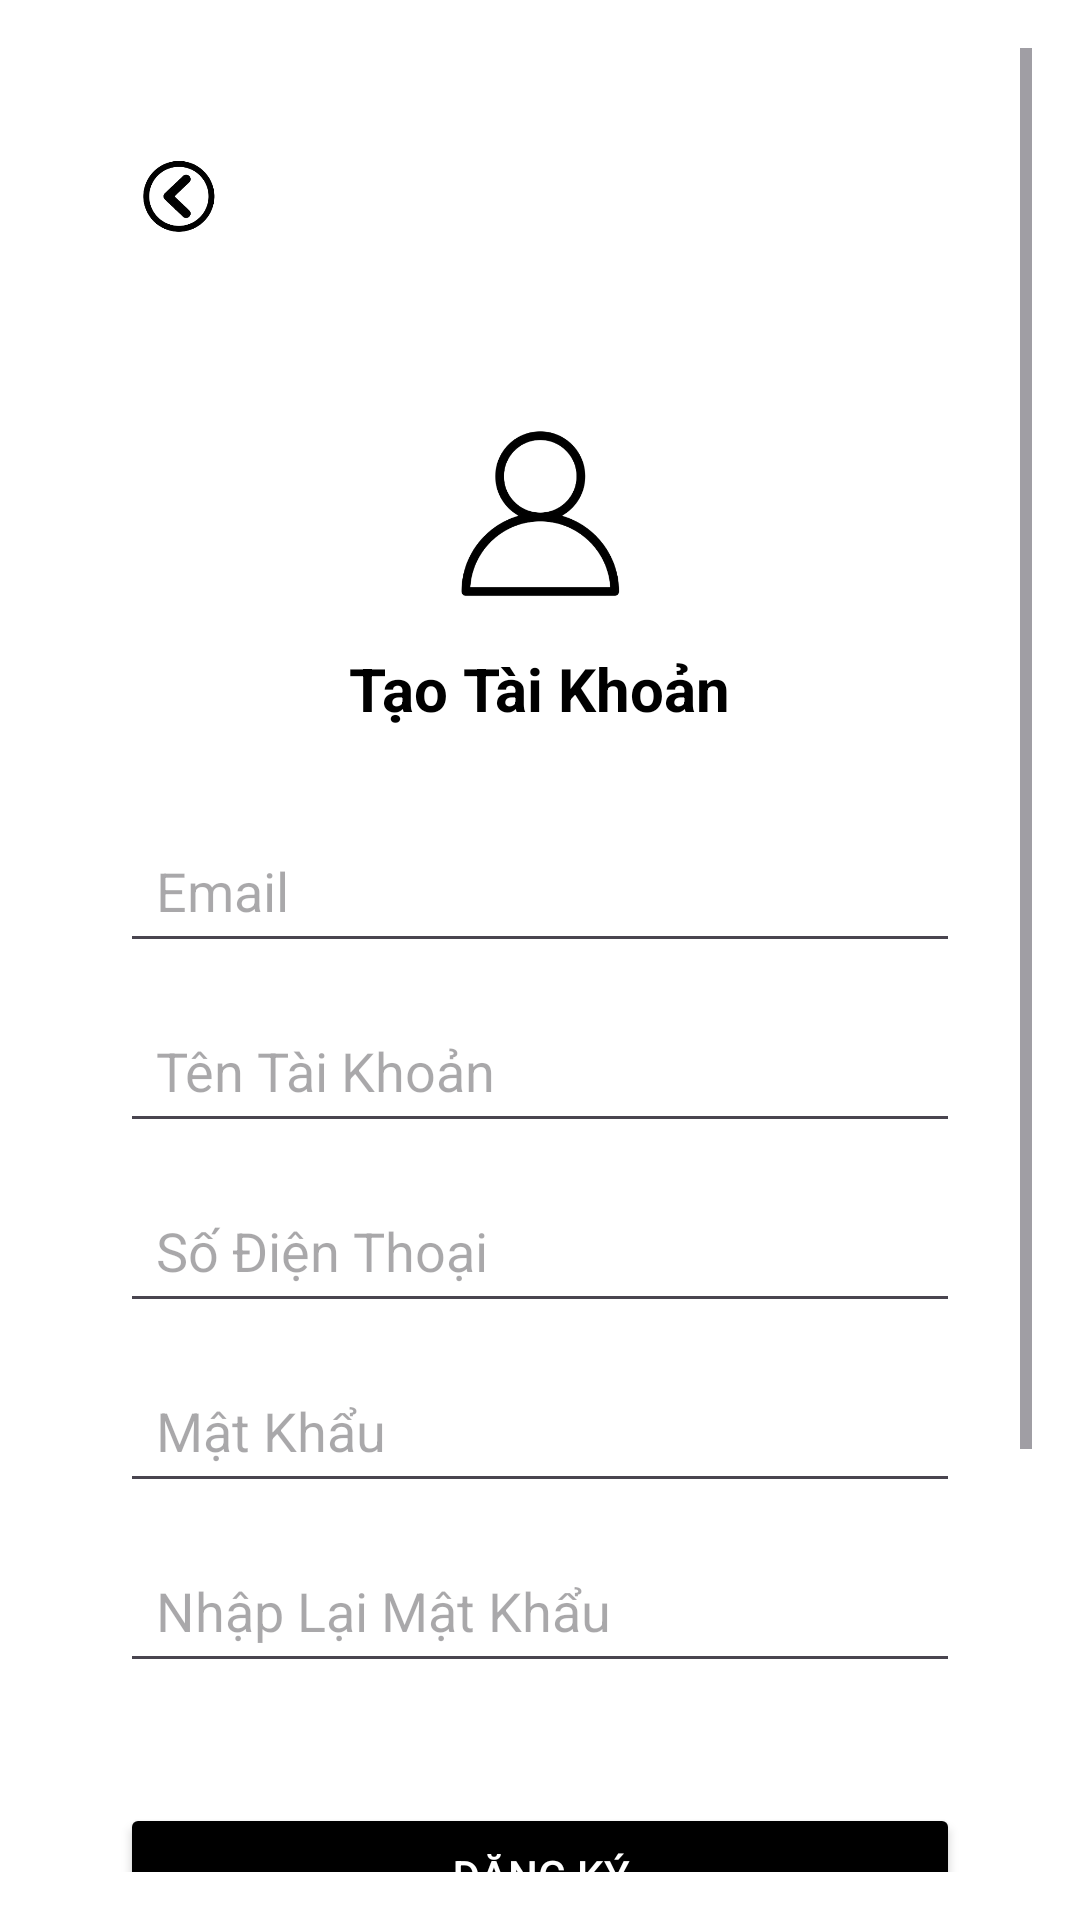

Screen size 1080×1920. Icon name, then its box in pixels as (x1, y1, x2, y2):
quayve: (143, 161, 215, 232)
